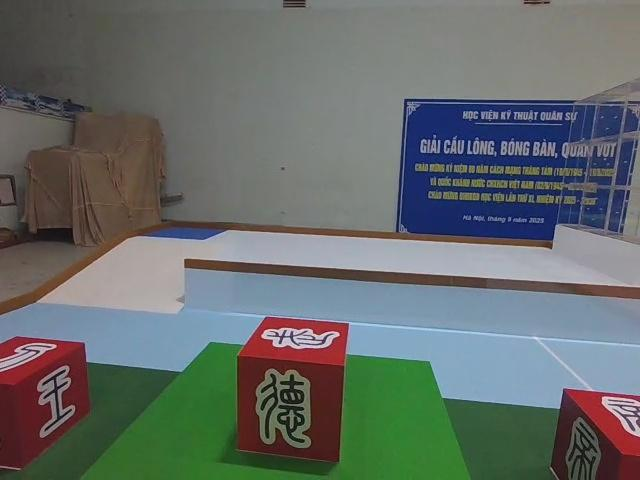R2 Fake: (233, 313, 353, 466), (0, 332, 93, 469), (547, 384, 640, 480)
